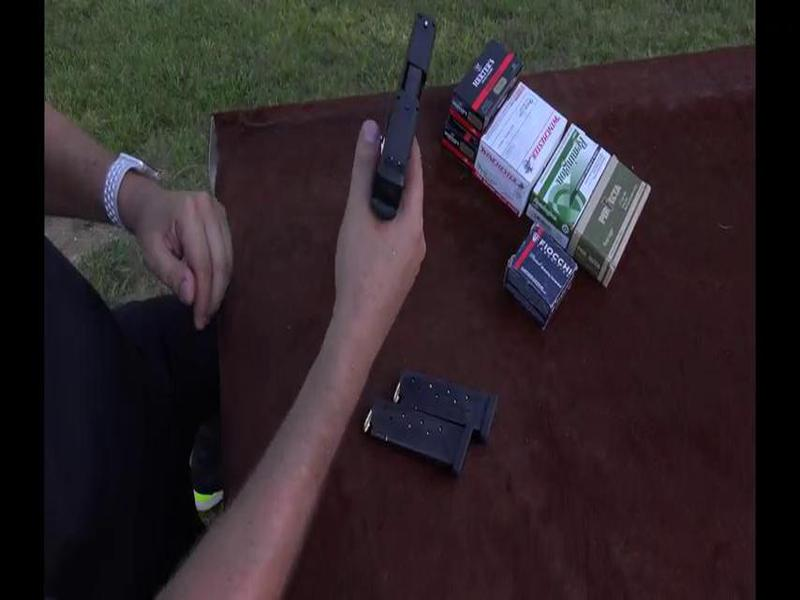Pistola: (364, 4, 457, 224)
